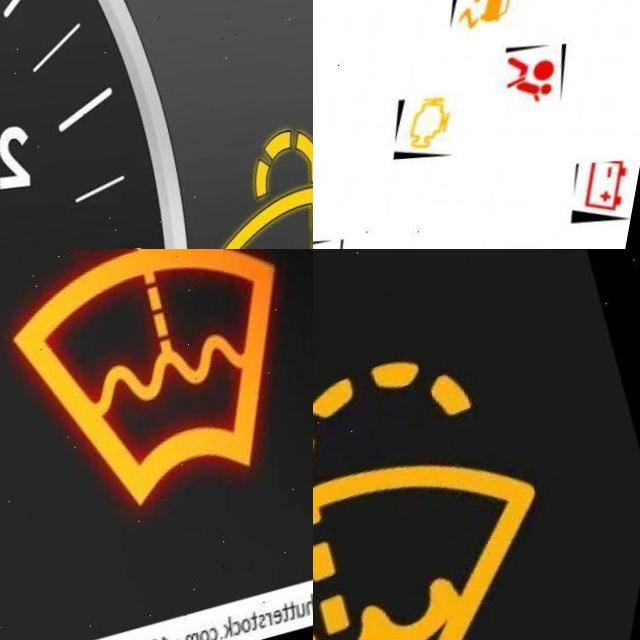Washer Fluid: (1, 249, 307, 505), (313, 355, 562, 640), (218, 120, 313, 249)
